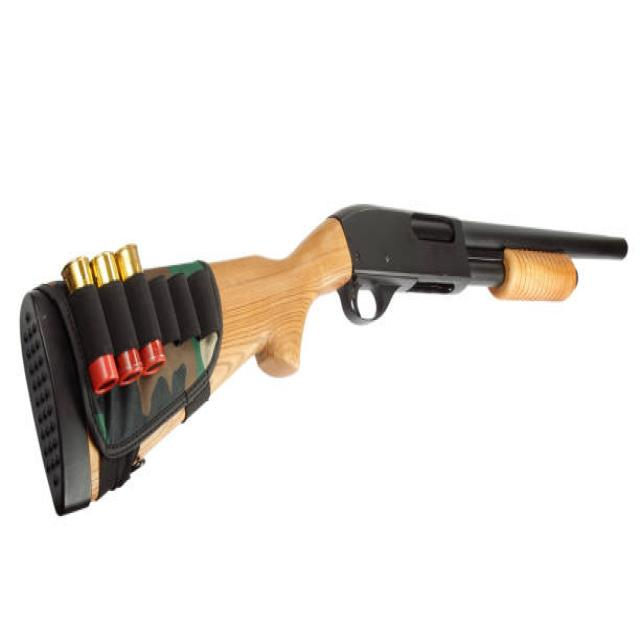ShotGun: (19, 205, 630, 513)
